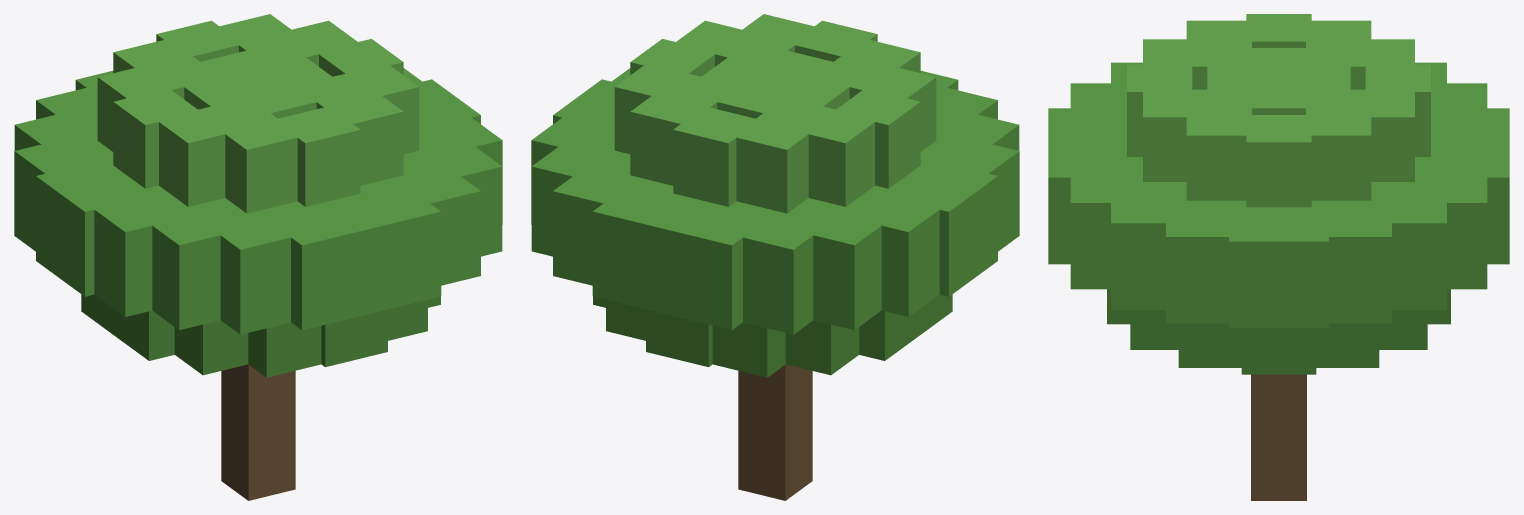
Rendered from tree_round.glb.
3 views of the same model, side by side, from view 1: azimuth 30°, elevation 25°; view 2: azimuth 150°, elevation 25°; view 3: azimuth 270°, elevation 25° (orthographic).
Visible parts, largest first — view 1: body; view 2: body; view 3: body.
Boxes of the visible parts, x1=… form: body: x1=14, y1=14, x2=502, y2=500; body: x1=531, y1=14, x2=1019, y2=500; body: x1=1048, y1=14, x2=1509, y2=500.
Size of the model in its own units: 5.86 by 5.7 by 5.8.
